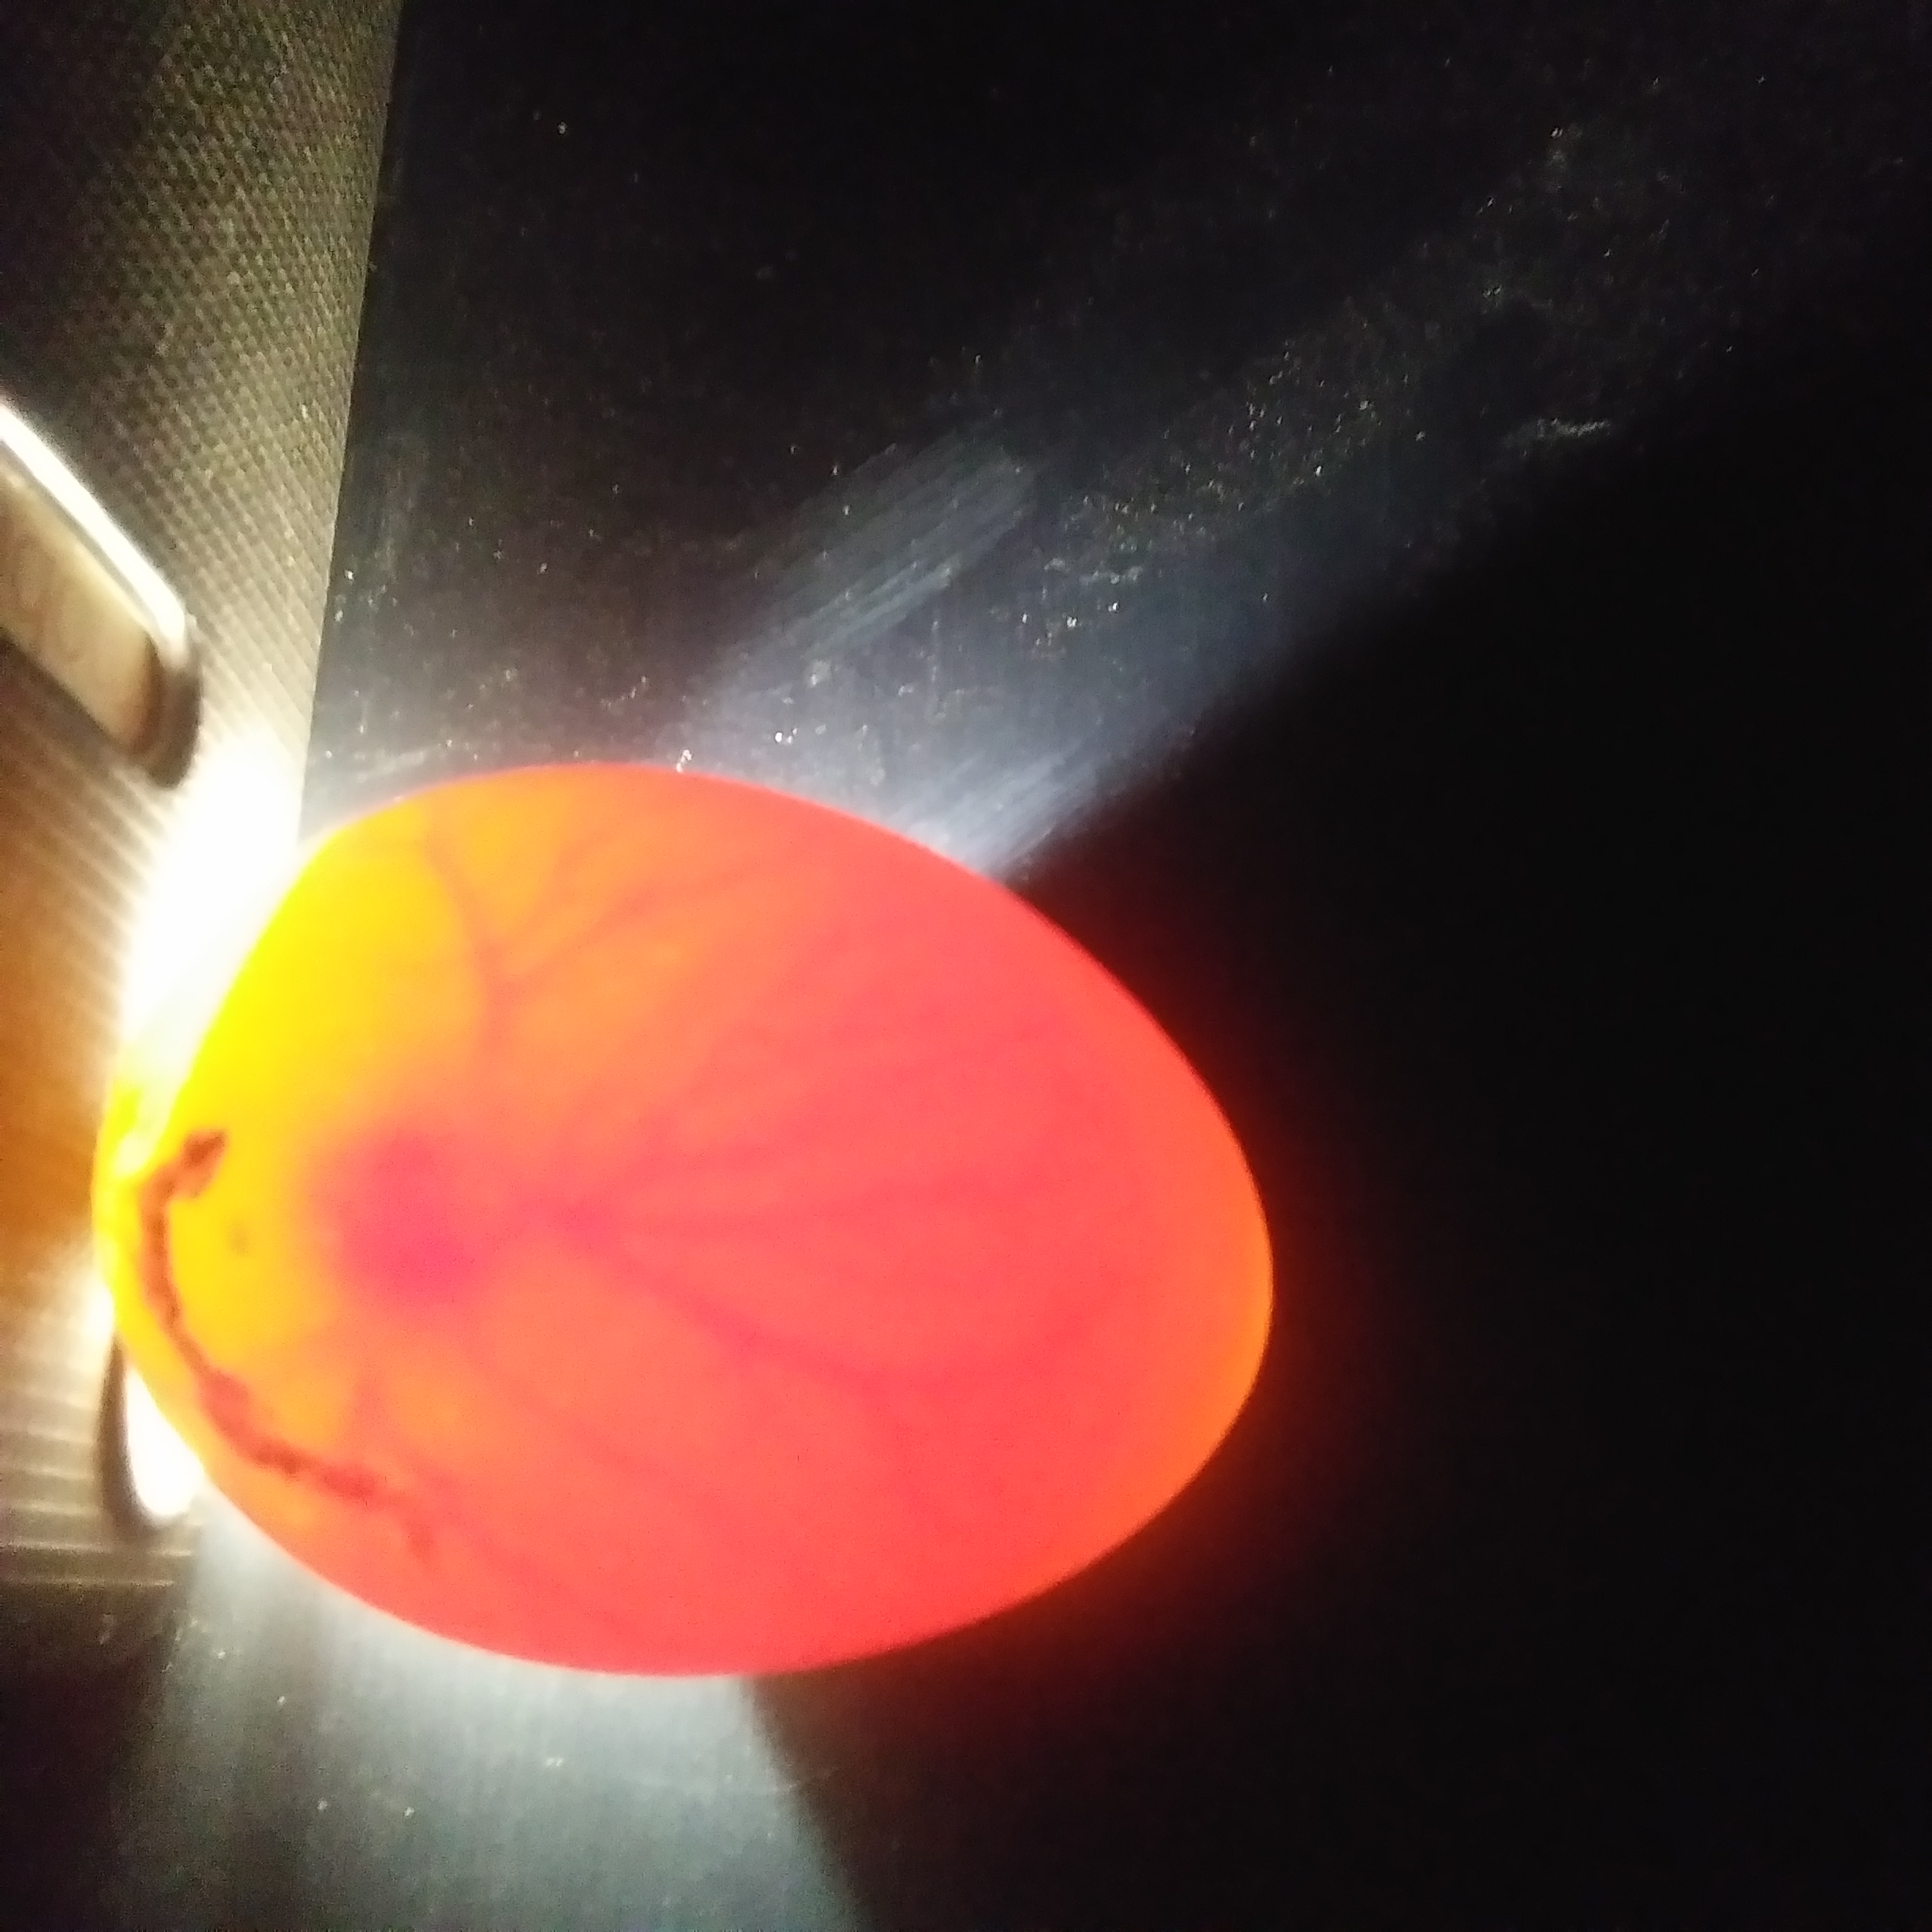bloodcell: (552, 895, 970, 1576)
embryo: (281, 1088, 527, 1332)
